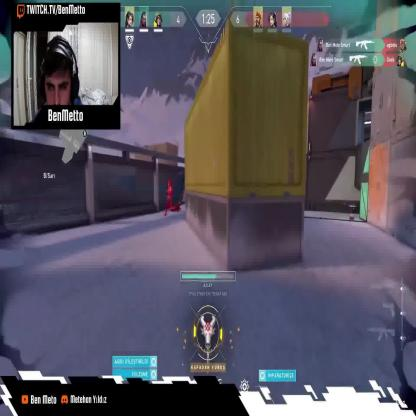enemy: (163, 179, 181, 216)
enemy_head: (168, 178, 172, 186)
